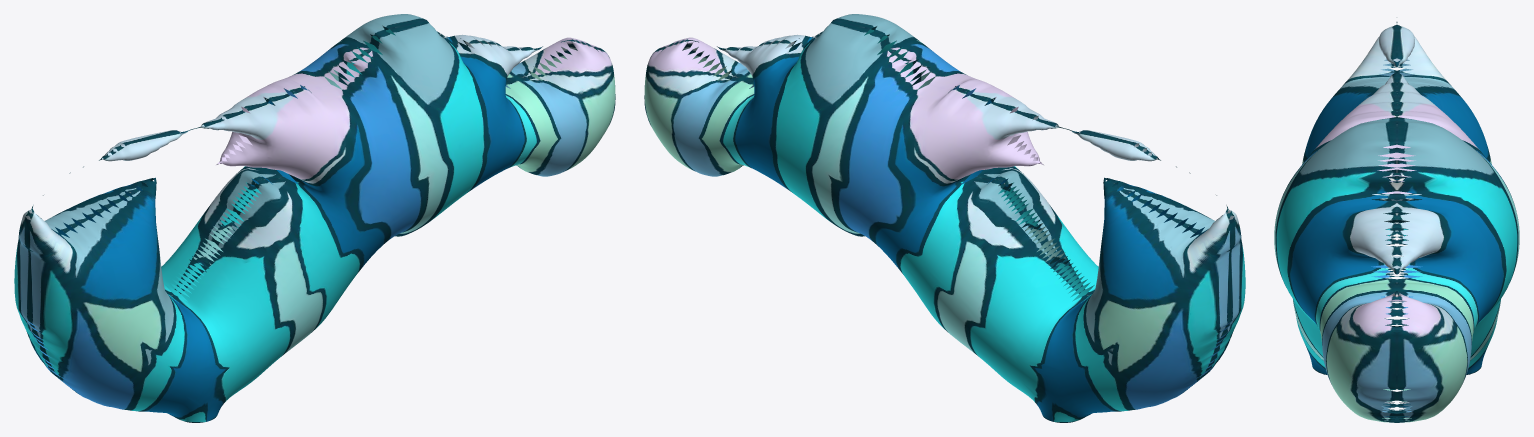
Rendered from east_ice_ledge.glb.
3 renders of one model, left to right at view 1: azimuth 30°, elevation 25°; view 2: azimuth 150°, elevation 25°; view 3: azimuth 270°, elevation 25°, orthographic. The views are drawn at different scales.
Parts seen in each view (by area): view 1: east_ice_ledge; view 2: east_ice_ledge; view 3: east_ice_ledge.
Boxes of the visible parts, <box> form: east_ice_ledge: <box>14,14,615,422</box>; east_ice_ledge: <box>644,14,1245,422</box>; east_ice_ledge: <box>1274,22,1519,422</box>.
Size of the model in its own units: 0.989 by 0.5125 by 0.3078.
Materials: 1 (1 with a texture image).
